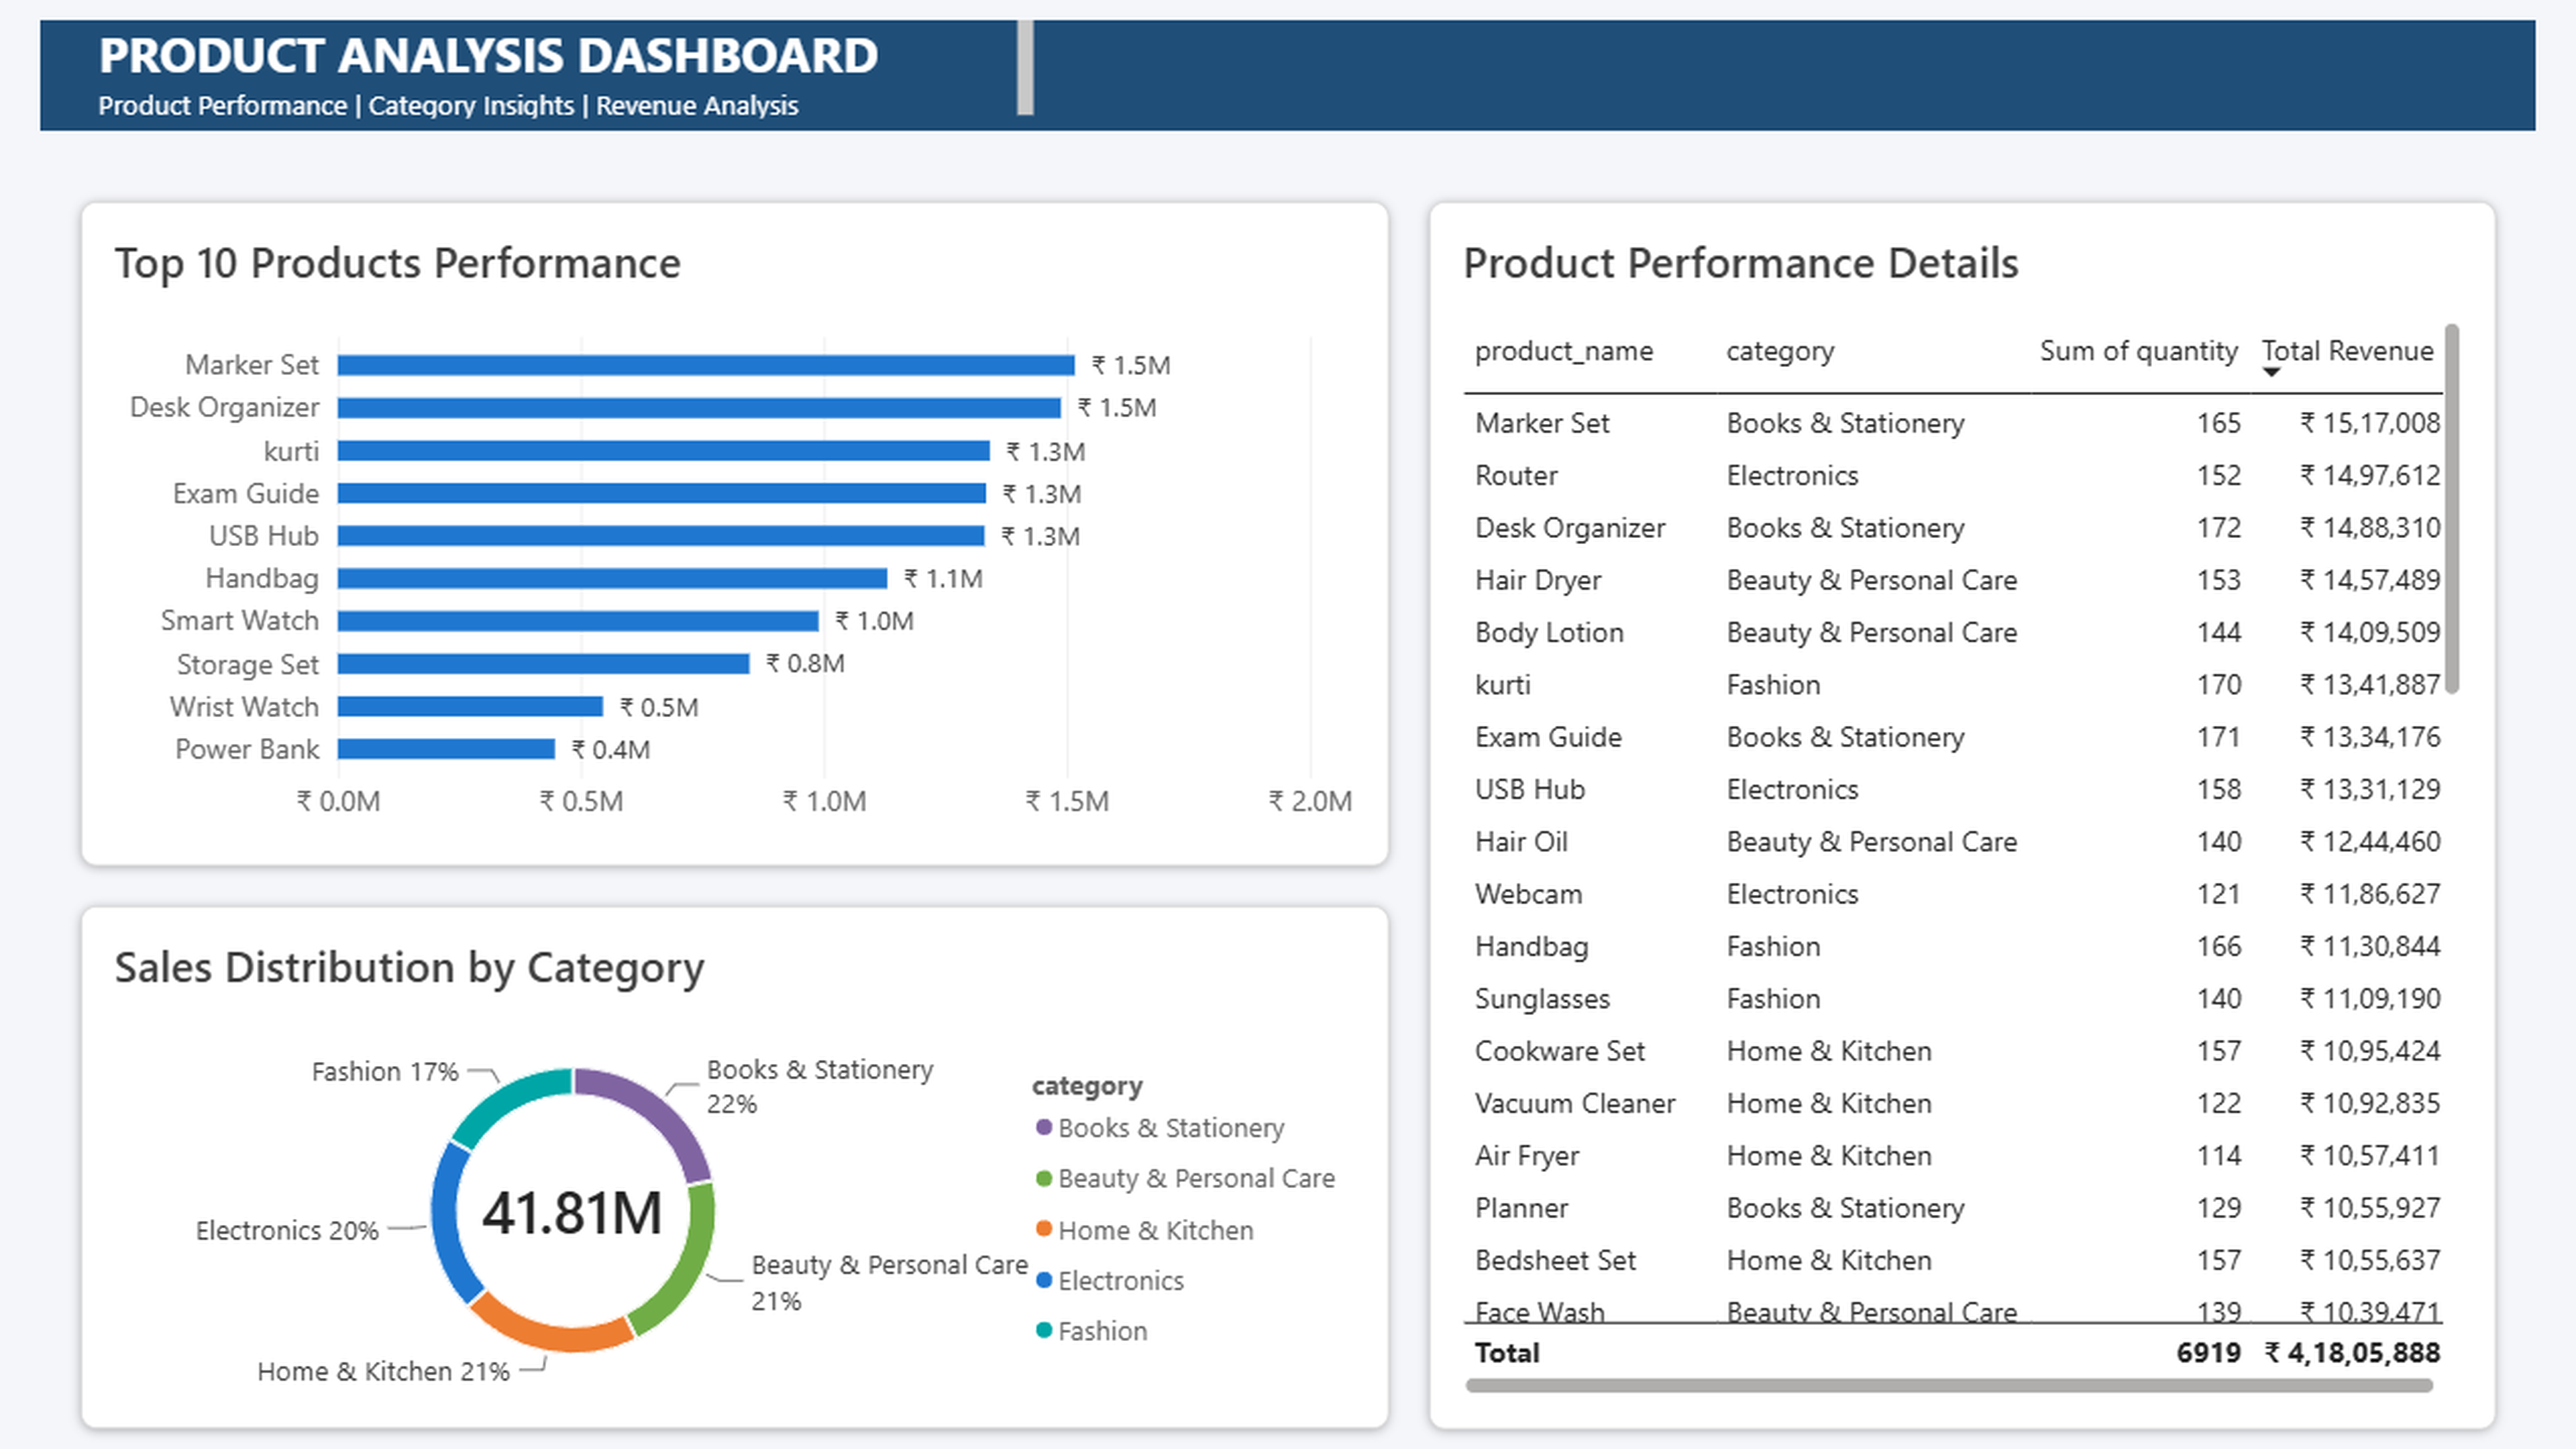

What the dashboard file says about the page in this screenshot:
{"tool":"powerbi","page":{"name":"Product Analysis","canvas":[1280,720],"ordinal":1},"visuals":[{"type":"clusteredBarChart","title":"Top 10 Products Performance","fields":{"Category":["retail_analytics products.product_name"],"Y":["retail_analytics customers.Total Revenue"]},"box":[40,100,650,330],"z":0},{"type":"donutChart","title":"Sales Distribution by Category","fields":{"Category":["retail_analytics products.category"],"Y":["retail_analytics customers.Total Revenue"]},"box":[40,450,650,260],"z":1000},{"type":"tableEx","title":"Product Performance Details","fields":{"Values":["retail_analytics products.product_name","retail_analytics products.category","Sum(retail_analytics order_details.quantity)","retail_analytics customers.Total Revenue"]},"box":[710,100,530,610],"z":2000},{"type":"shape","box":[20,10,1240,55],"z":3000},{"type":"textbox","box":[49,10,465,49],"z":4000}]}

Visuals, with their boxes in screenshot pixels (x1, y1, x2, y2), scaled from the page's 1280x720 canvas onto the 2576x1449 screenshot:
"Top 10 Products Performance" clusteredBarChart: box(80, 201, 1389, 865)
"Sales Distribution by Category" donutChart: box(80, 906, 1389, 1429)
"Product Performance Details" tableEx: box(1429, 201, 2495, 1429)
shape: box(40, 20, 2536, 131)
textbox: box(99, 20, 1034, 119)
